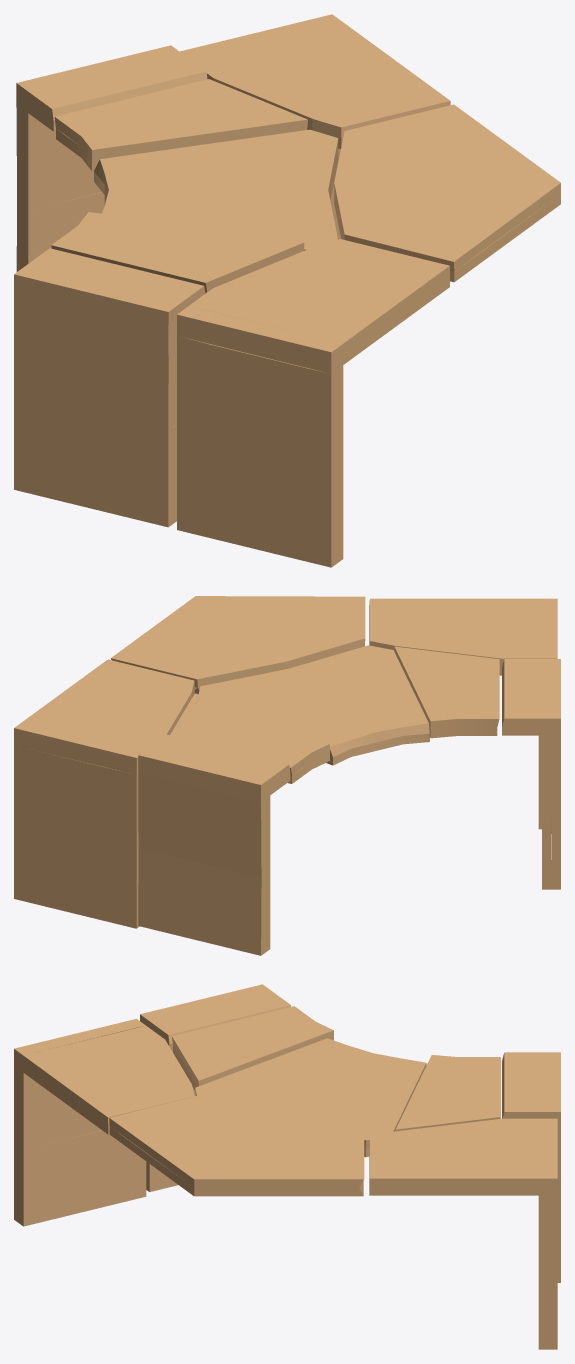
The model's file is table02_trashed.fbx.
3 renders of one model, top to bottom at view 1: azimuth 30°, elevation 25°; view 2: azimuth 150°, elevation 25°; view 3: azimuth 270°, elevation 25°, orthographic. The views are drawn at different scales.
Parts seen in each view (by area): view 1: Table_cell.006, Table_cell.015, Table_cell.002, Table_cell.025, Table_cell.003, Table_cell.010, Table_cell.018, Table_cell.019; view 2: Table_cell.003, Table_cell.010, Table_cell.002, Table_cell.025, Table_cell.006, Table_cell.015, Table_cell.019, Table_cell.018; view 3: Table_cell.006, Table_cell.002, Table_cell.003, Table_cell.025, Table_cell.019, Table_cell.018, Table_cell.010, Table_cell.015.
Boxes of the visible parts, x1,y1,x2,y2 form: Table_cell.006: (177,239,449,567); Table_cell.015: (14,248,205,527); Table_cell.002: (334,104,560,282); Table_cell.025: (94,129,338,250); Table_cell.003: (180,14,450,239); Table_cell.010: (16,45,207,271); Table_cell.018: (54,79,307,171); Table_cell.019: (51,212,304,293); Table_cell.003: (14,659,194,928); Table_cell.010: (138,734,290,955); Table_cell.002: (110,596,365,694); Table_cell.025: (198,645,429,765); Table_cell.006: (369,598,557,829); Table_cell.015: (502,659,560,889); Table_cell.019: (394,646,499,738); Table_cell.018: (170,693,329,783); Table_cell.006: (14,1019,194,1226); Table_cell.002: (109,1096,364,1196); Table_cell.003: (369,1118,557,1349); Table_cell.025: (195,1038,426,1157); Table_cell.019: (172,1006,333,1090); Table_cell.018: (395,1055,500,1131); Table_cell.010: (502,1052,560,1282); Table_cell.015: (140,984,291,1191).
Size of the model in its own units: 2.45 by 1.05 by 2.9.
